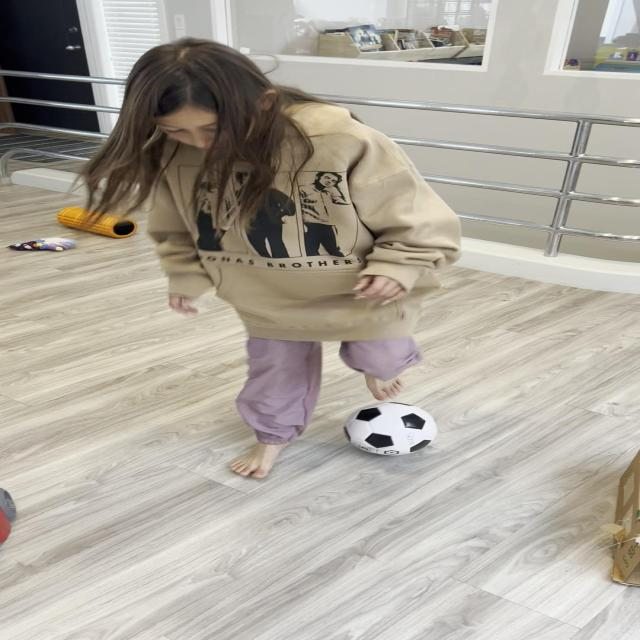Soccer Ball: (342, 402, 438, 456)
